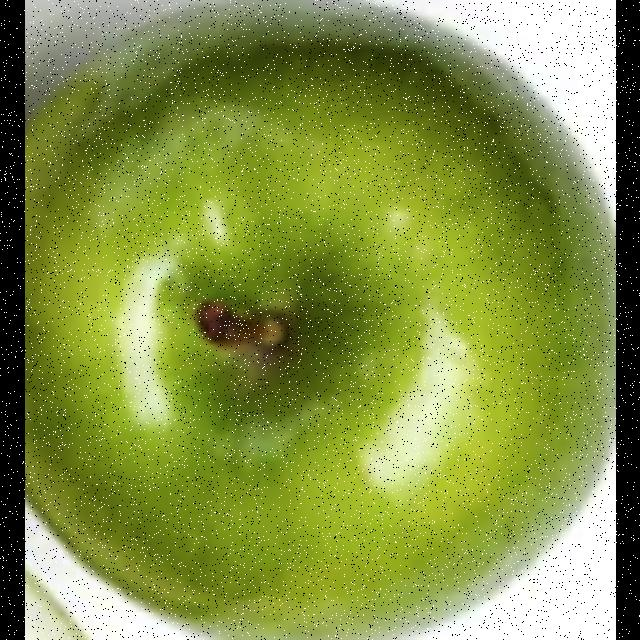Apel Segar: (24, 0, 616, 640)
